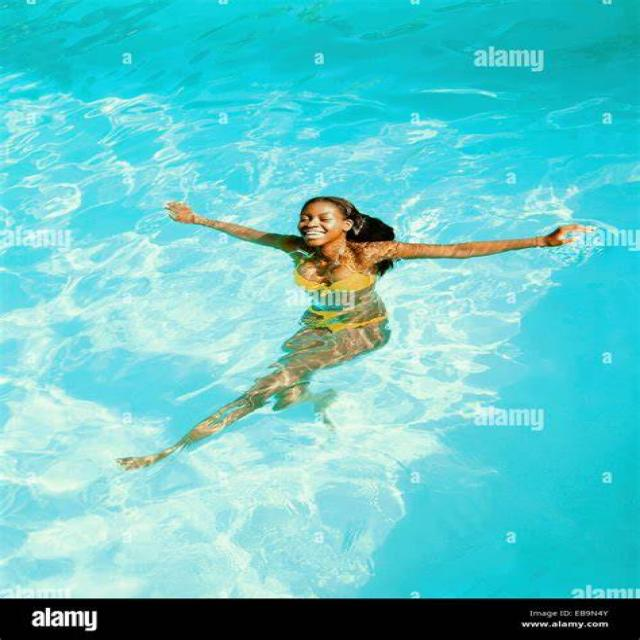swimming: (142, 162, 583, 496)
